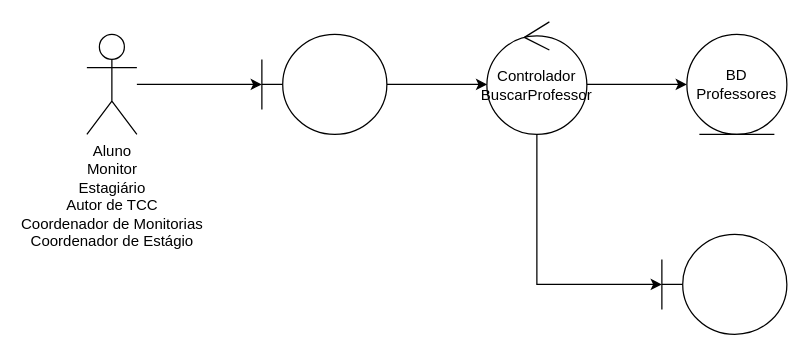
Image size: 809x356. Some labels were removed from this diagram. Each missing label, with the box of its shape:
Tela BuscarProfessor: (261, 33, 387, 134)
Tela Professores: (661, 233, 787, 334)
